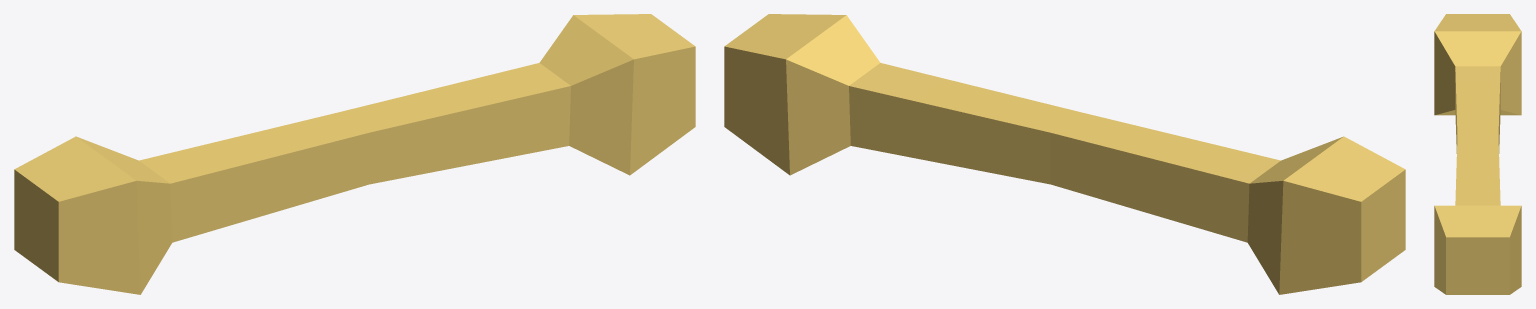
The model's file is Prop_Bone.obj.
The picture shows the model from 3 angles, left to right: view 1: azimuth 30°, elevation 25°; view 2: azimuth 150°, elevation 25°; view 3: azimuth 270°, elevation 25°; orthographic projection. The views are drawn at different scales.
Visible parts, largest first — view 1: EXPORT_Prop_Bone; view 2: EXPORT_Prop_Bone; view 3: EXPORT_Prop_Bone.
Boxes of the visible parts, x1,y1,x2,y2 form: EXPORT_Prop_Bone: (14,14,695,294); EXPORT_Prop_Bone: (724,14,1405,294); EXPORT_Prop_Bone: (1434,14,1521,294).
Bounding box in the file's own units: 0.6018 × 0.104 × 0.0992.
